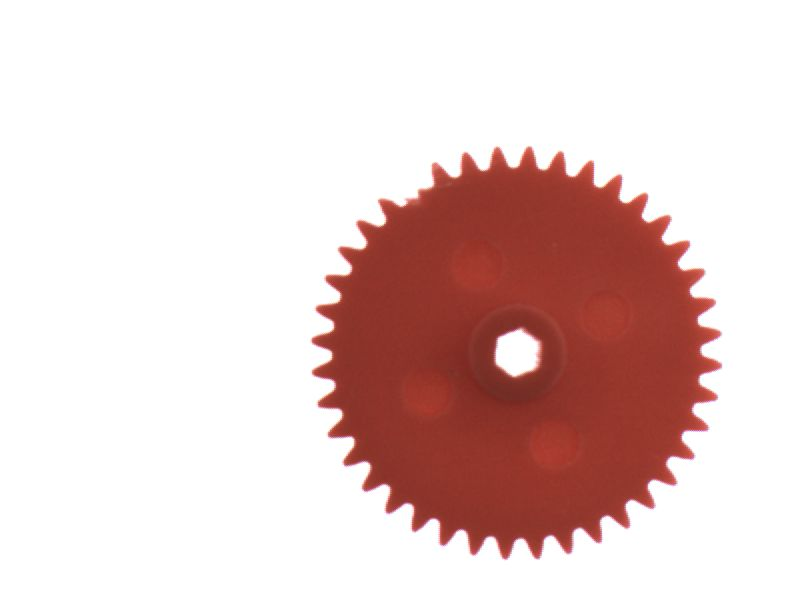defect_lack: (386, 168, 442, 211)
